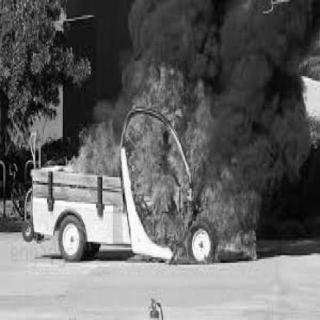Fire: (58, 14, 261, 267)
Smoke: (224, 0, 298, 183)
